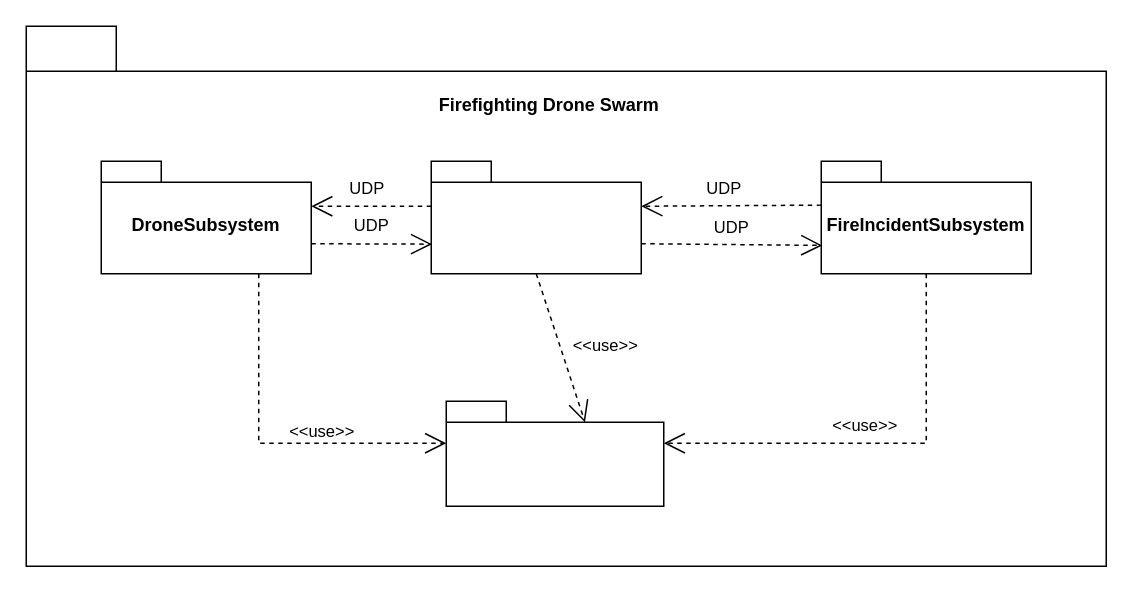
Image size: 1133x593. Some labels were removed from this diagram. Here are the shapes that lost their labels. From the top down, the box of each, then its label:
(430, 160, 641, 274): SchedulerSubsystem
(445, 400, 664, 506): Map
